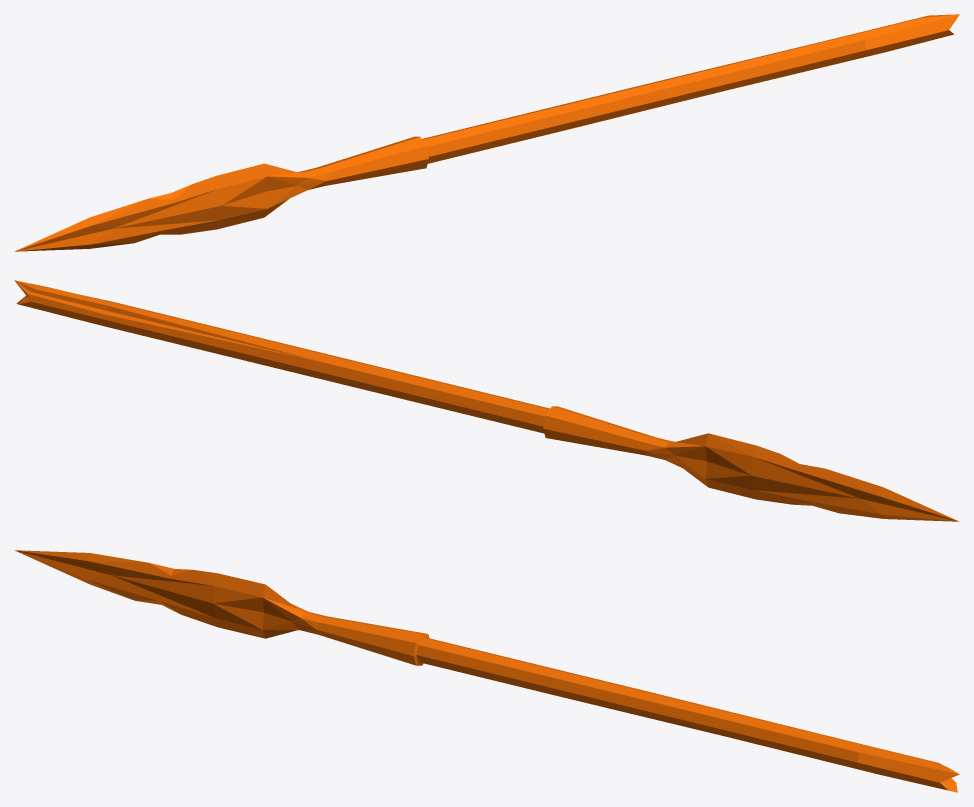
File: CGM_ENV_WEP_spear1.fbx
3 renders of one model, top to bottom at view 1: azimuth 30°, elevation 25°; view 2: azimuth 150°, elevation 25°; view 3: azimuth 330°, elevation 25°, orthographic.
Visible parts, largest first — view 1: CGM_ENV_WEP_spear1; view 2: CGM_ENV_WEP_spear1; view 3: CGM_ENV_WEP_spear1.
Part boxes in pixels (x1,y1,x2,y2): CGM_ENV_WEP_spear1: (14, 14, 959, 251); CGM_ENV_WEP_spear1: (14, 280, 958, 521); CGM_ENV_WEP_spear1: (15, 550, 959, 792).
Bounding box in the file's own units: 164 × 9.01 × 5.27.
